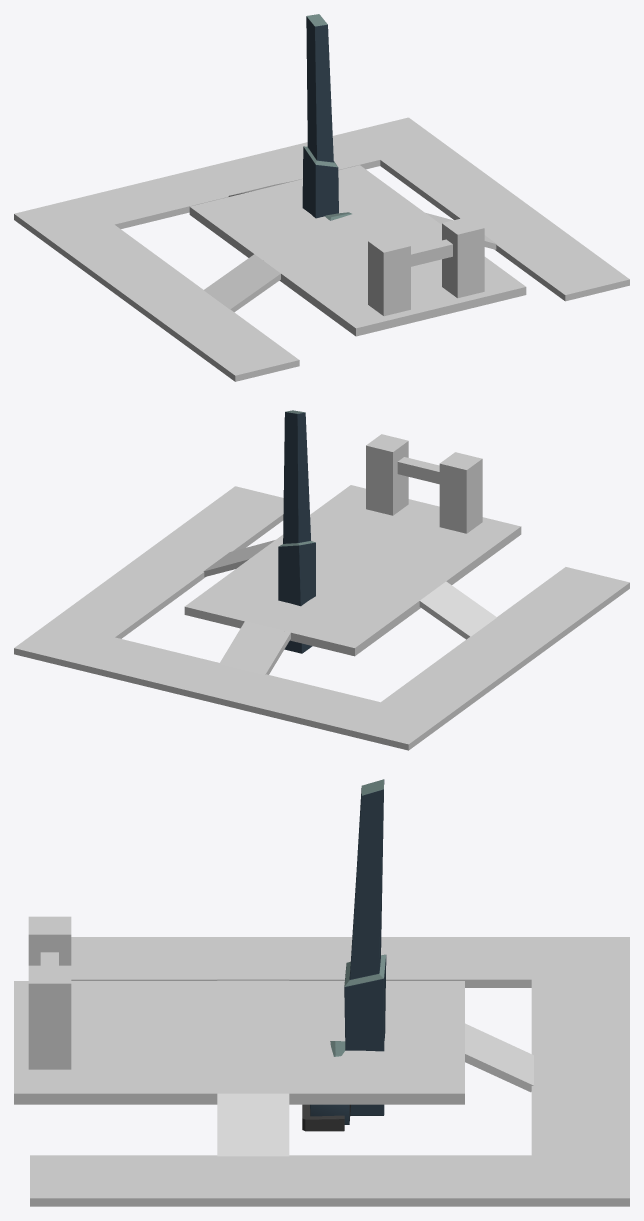
Rendered from pilier_v1.fbx.
The picture shows the model from 3 angles, top to bottom: view 1: azimuth 30°, elevation 25°; view 2: azimuth 150°, elevation 25°; view 3: azimuth 270°, elevation 25°; orthographic projection. The views are drawn at different scales.
Parts seen in each view (by area): view 1: basse_platforme, haute_plateforme, Cube, pilier_1, pilier_2, pente_2, poutre_milieu; view 2: basse_platforme, haute_plateforme, Cube, pilier_1, pilier_2, pente_3, pente_2, pente_1, poutre_milieu; view 3: basse_platforme, haute_plateforme, Cube, pente_1, pilier_2, pente_3, pilier_1.
Part boxes in pixels (x1,y1,x2,y2): basse_platforme: [14, 117, 629, 381]; haute_plateforme: [189, 165, 526, 336]; Cube: [302, 14, 351, 220]; pilier_1: [368, 234, 410, 316]; pilier_2: [442, 216, 484, 298]; pente_2: [204, 254, 280, 312]; poutre_milieu: [411, 239, 452, 266]; basse_platforme: [14, 486, 629, 750]; haute_plateforme: [184, 485, 521, 656]; Cube: [278, 410, 315, 653]; pilier_1: [439, 452, 482, 533]; pilier_2: [366, 434, 408, 515]; pente_3: [219, 621, 290, 674]; pente_2: [419, 581, 496, 639]; pente_1: [203, 540, 274, 576]; poutre_milieu: [397, 457, 439, 484]; basse_platforme: [30, 937, 629, 1206]; haute_plateforme: [14, 981, 464, 1104]; Cube: [302, 779, 386, 1131]; pente_1: [217, 1093, 289, 1156]; pilier_2: [28, 965, 71, 1069]; pente_3: [465, 1023, 533, 1092]; pilier_1: [28, 916, 71, 965].
Bounding box in the file's own units: 2904 × 1680 × 2895.
